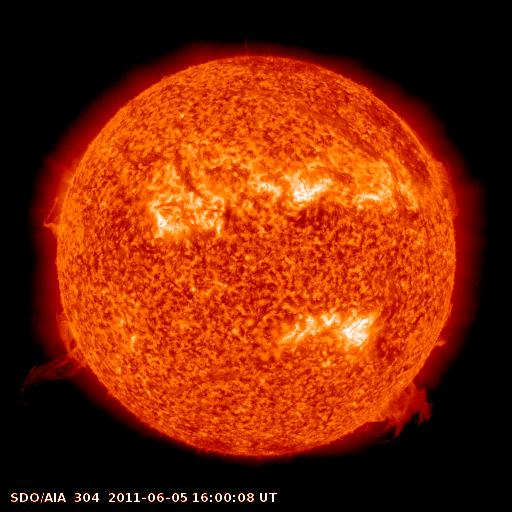prominence: (15, 313, 97, 398), (357, 374, 436, 440), (428, 153, 470, 222), (34, 183, 70, 242)
